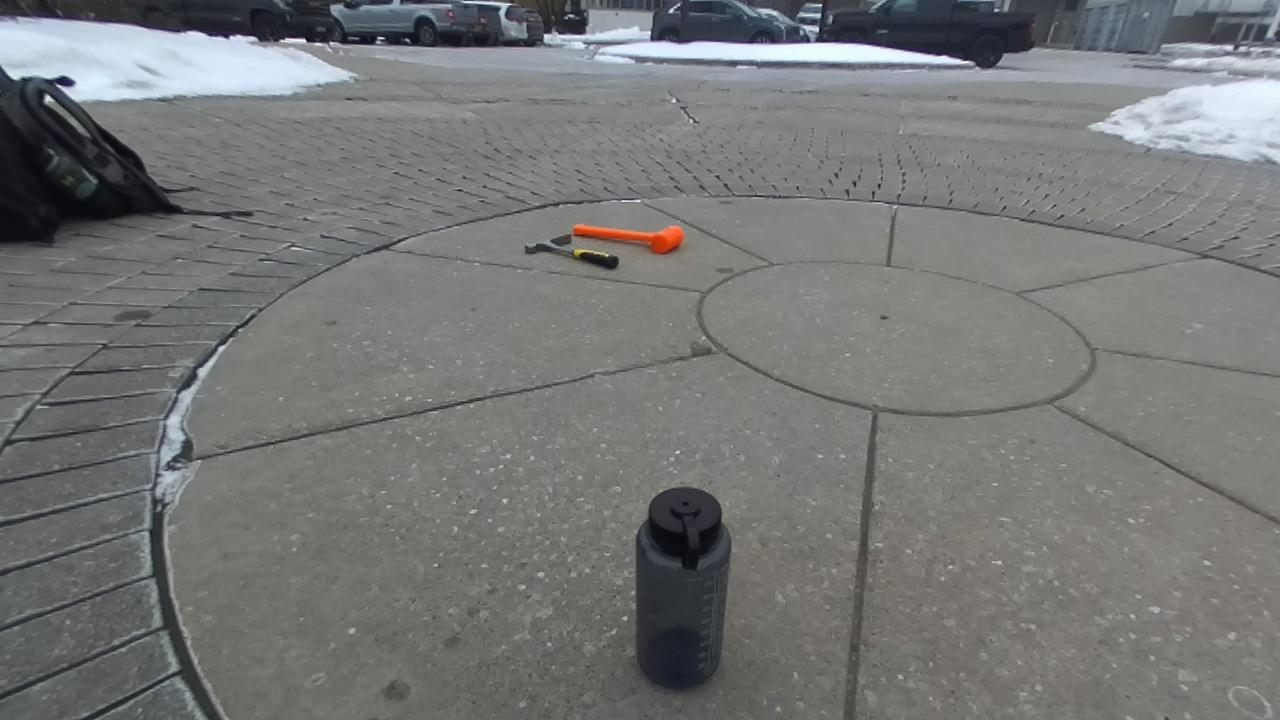bottle: (636, 486, 731, 688)
mallet: (573, 224, 683, 253)
pick: (525, 241, 618, 269)
